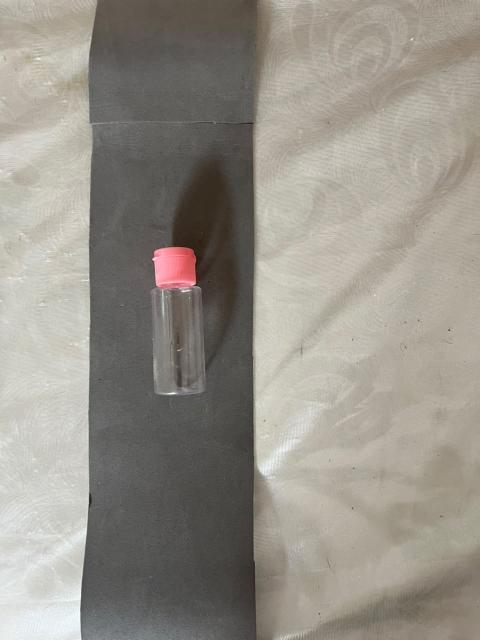PET: (98, 170, 283, 484)
